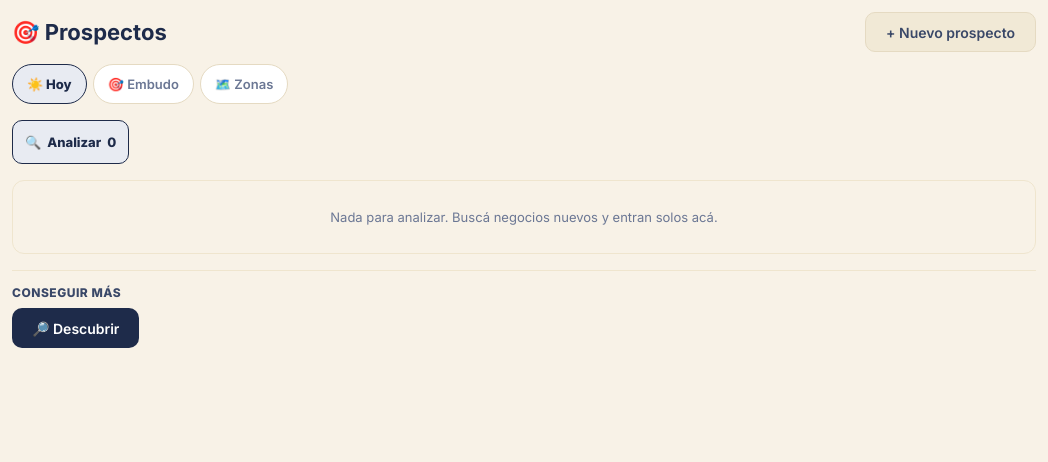
Scenario: Prospectos (módulo) — pestañas y alias de deep-link (F1) › Zonas muestra el ProspectMap de siempre
This screenshot has width=1048, height=462.
Click the button "🗺️ Zonas". click: (244, 84)
box: [200, 64, 288, 104]
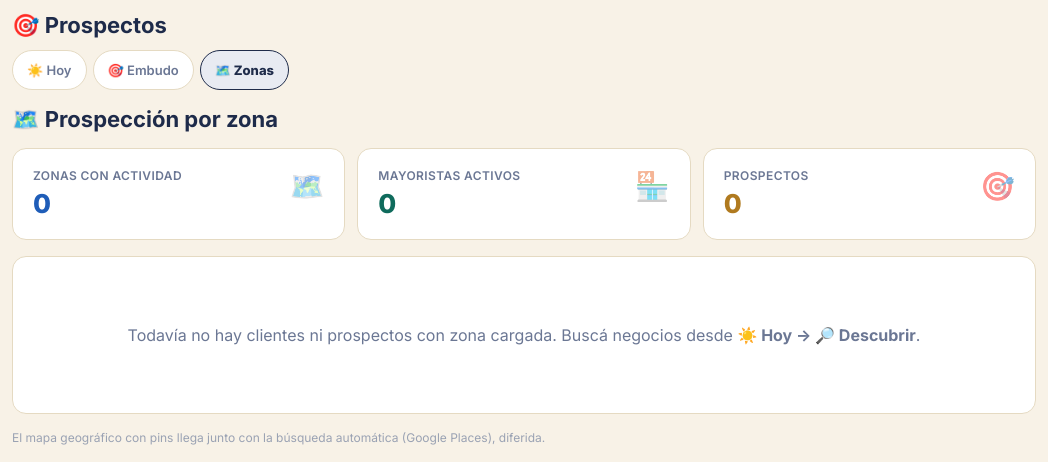
Now the heading "🗺️ Prospección por zona" is shown, box [12, 106, 278, 132]
